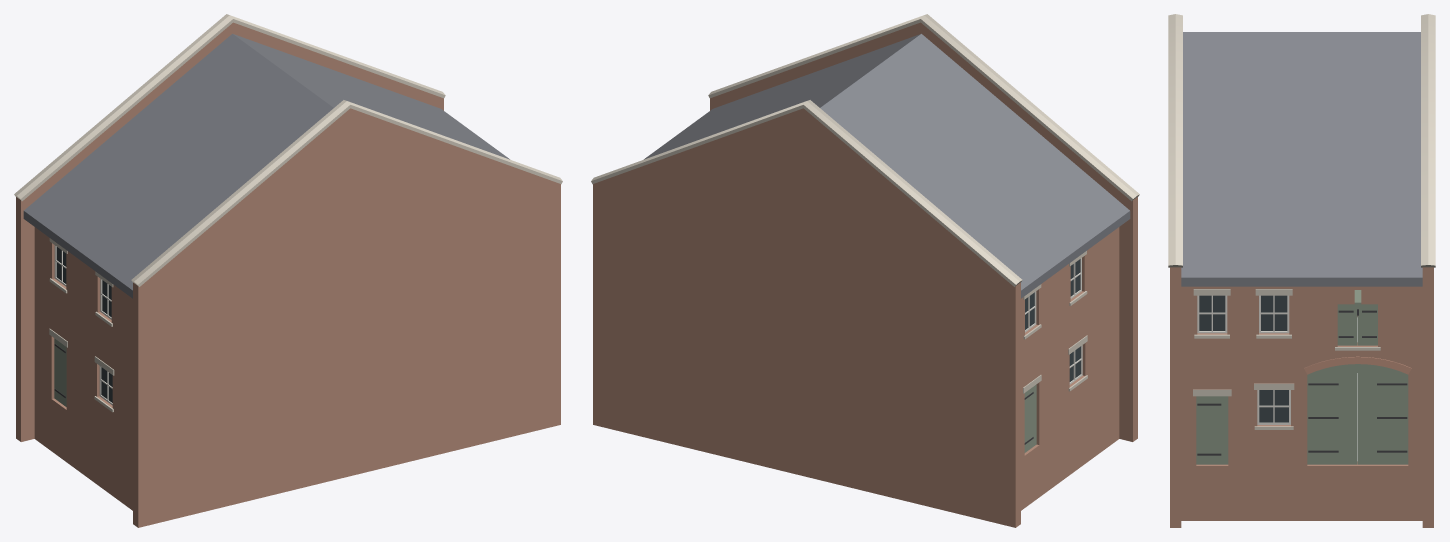
Rendered from house_2011_prairie_coach_house__as_standing_1904.glb.
3 views of the same model, side by side, from view 1: azimuth 30°, elevation 25°; view 2: azimuth 150°, elevation 25°; view 3: azimuth 270°, elevation 25° (orthographic). The views are drawn at different scales.
Visible parts, largest first — view 1: house_2011_prairie_coach_house__as_standing_1904; view 2: house_2011_prairie_coach_house__as_standing_1904; view 3: house_2011_prairie_coach_house__as_standing_1904.
Boxes of the visible parts, x1=… form: house_2011_prairie_coach_house__as_standing_1904: x1=14, y1=14, x2=562, y2=527; house_2011_prairie_coach_house__as_standing_1904: x1=591, y1=14, x2=1139, y2=527; house_2011_prairie_coach_house__as_standing_1904: x1=1168, y1=14, x2=1435, y2=527.
Bounding box in the file's own units: 16.1 × 13.2 × 7.94.
